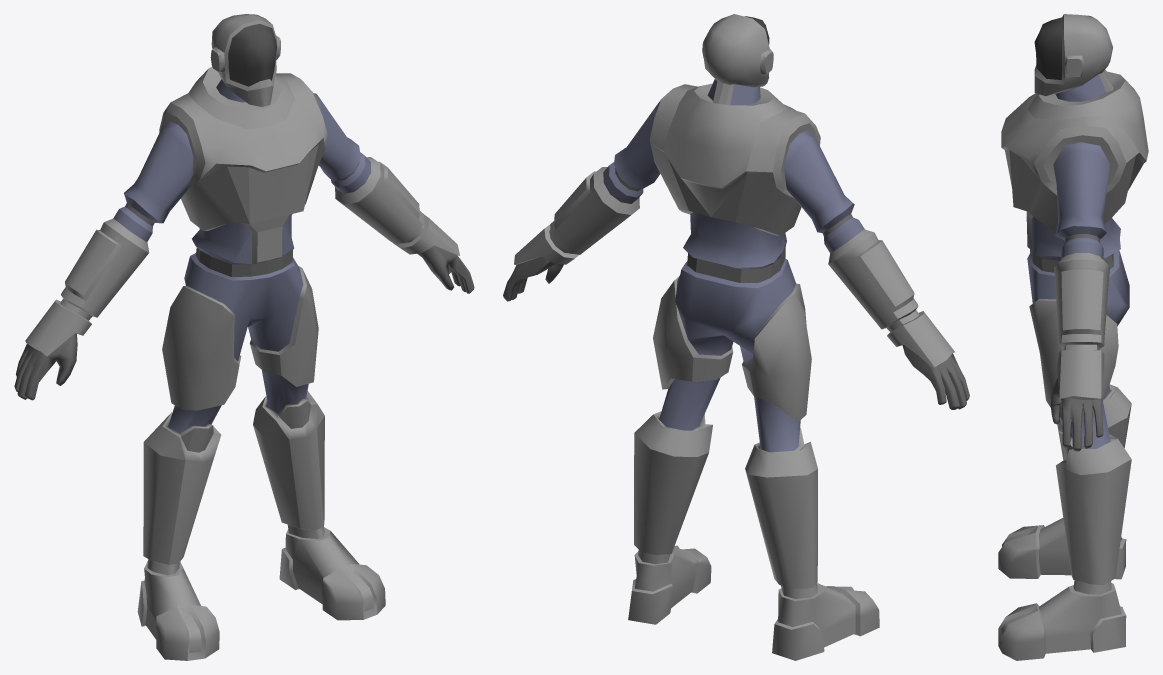
File: SmallEnemy_low.fbx
The picture shows the model from 3 angles, left to right: view 1: azimuth 30°, elevation 25°; view 2: azimuth 150°, elevation 25°; view 3: azimuth 270°, elevation 25°; orthographic projection. The views are drawn at different scales.
Visible parts, largest first — view 1: SmallEnemy_low; view 2: SmallEnemy_low; view 3: SmallEnemy_low.
Boxes of the visible parts, x1,y1,x2,y2 form: SmallEnemy_low: [14, 14, 474, 660]; SmallEnemy_low: [503, 14, 969, 660]; SmallEnemy_low: [998, 14, 1148, 660].
Size of the model in its own units: 151 by 189 by 43.67.
